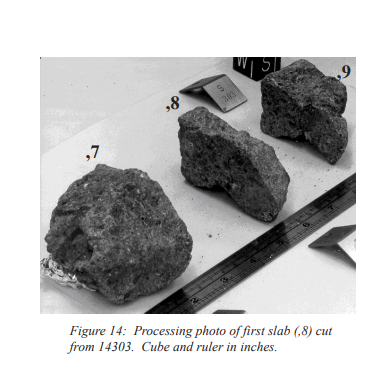Breccia: (41, 146, 194, 305), (163, 100, 302, 224), (249, 64, 356, 160)
